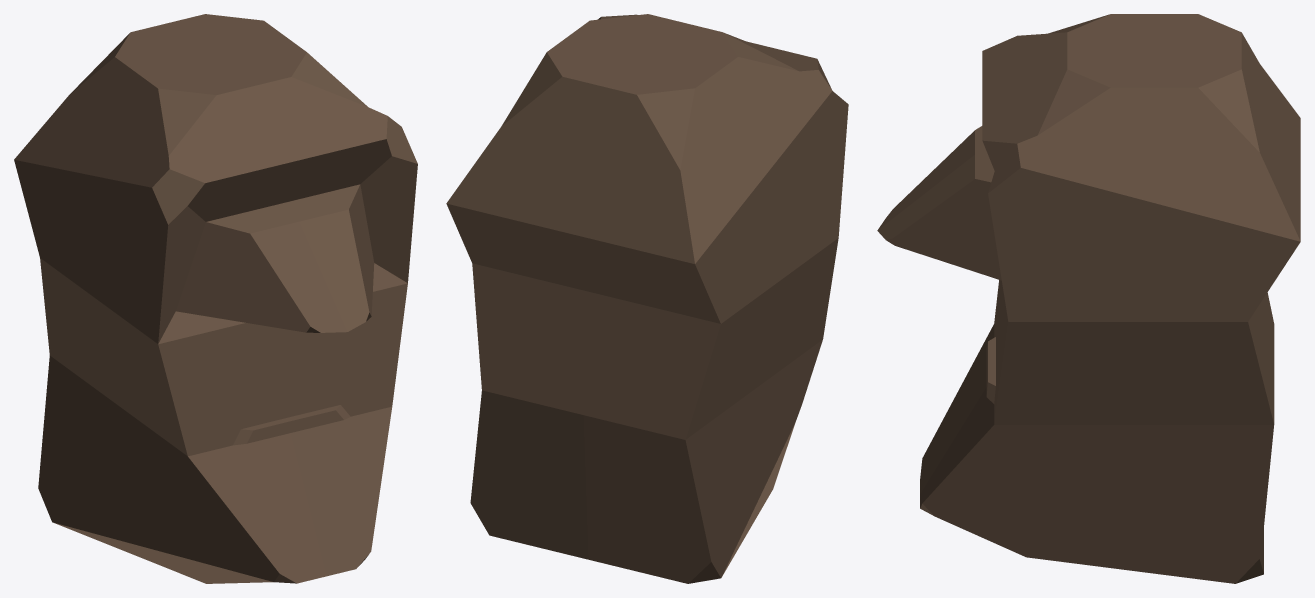
The model's file is Shrine_Temp.fbx.
3 views of the same model, side by side, from view 1: azimuth 30°, elevation 25°; view 2: azimuth 150°, elevation 25°; view 3: azimuth 270°, elevation 25° (orthographic).
Parts seen in each view (by area): view 1: Cube; view 2: Cube; view 3: Cube.
Boxes of the visible parts, x1,y1,x2,y2 form: Cube: (14, 14, 417, 583); Cube: (446, 14, 848, 583); Cube: (877, 14, 1300, 583).
Bounding box in the file's own units: 200 × 358 × 290.
